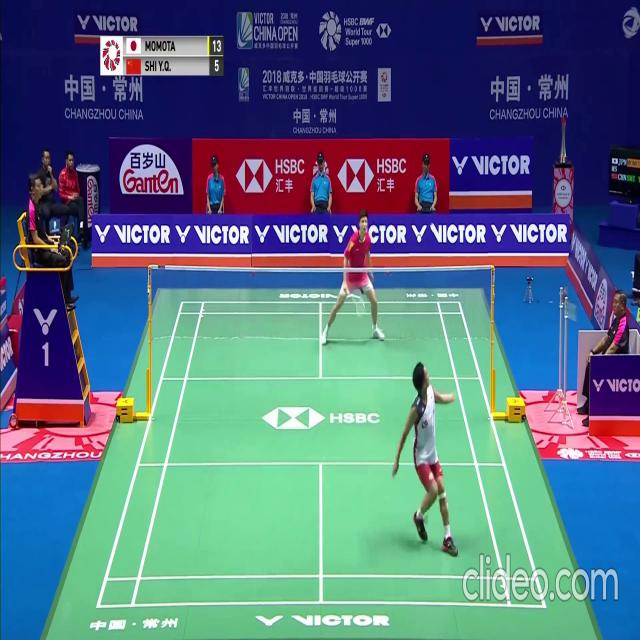Shuttlecock: (431, 223, 435, 230)
